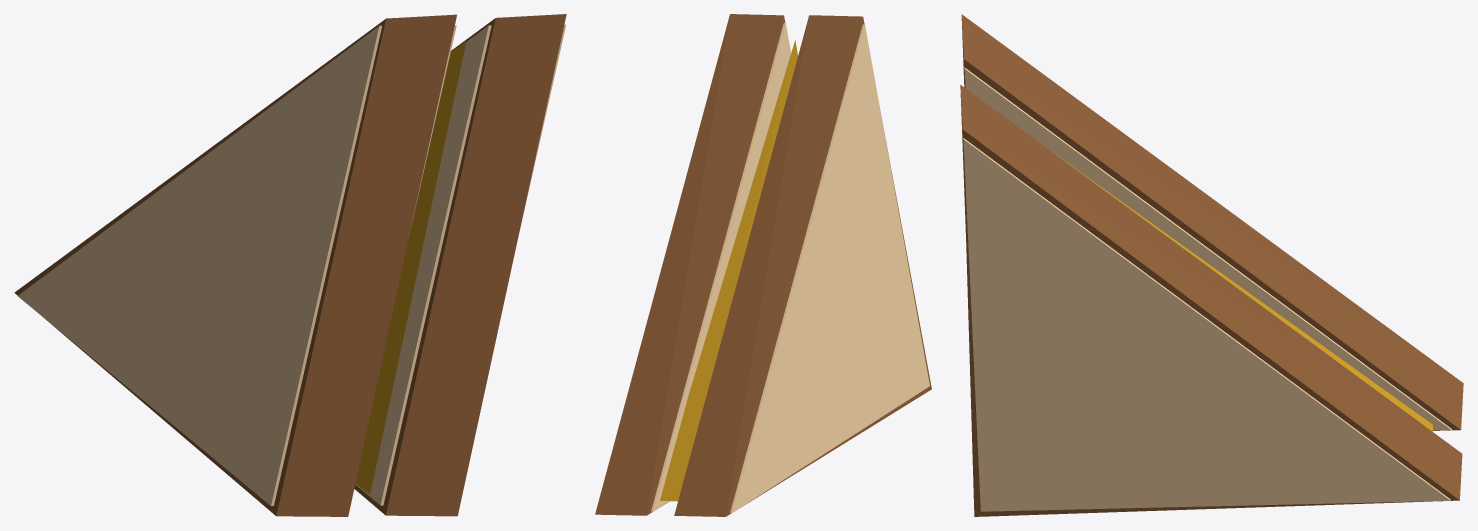
The model's file is food_2_sandwich.fbx.
3 renders of one model, left to right at view 1: azimuth 30°, elevation 25°; view 2: azimuth 150°, elevation 25°; view 3: azimuth 270°, elevation 25°, orthographic. The views are drawn at different scales.
Visible parts, largest first — view 1: food_sandwich; view 2: food_sandwich; view 3: food_sandwich.
Part boxes in pixels (x1,y1,x2,y2): food_sandwich: (14, 14, 566, 516); food_sandwich: (595, 14, 931, 516); food_sandwich: (960, 14, 1463, 516).
Size of the model in its own units: 33.5 by 58.76 by 57.2.
